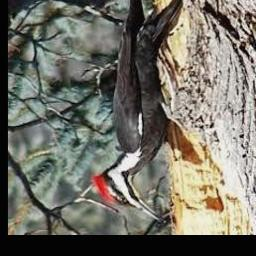Woodpecker: (93, 0, 189, 221)
